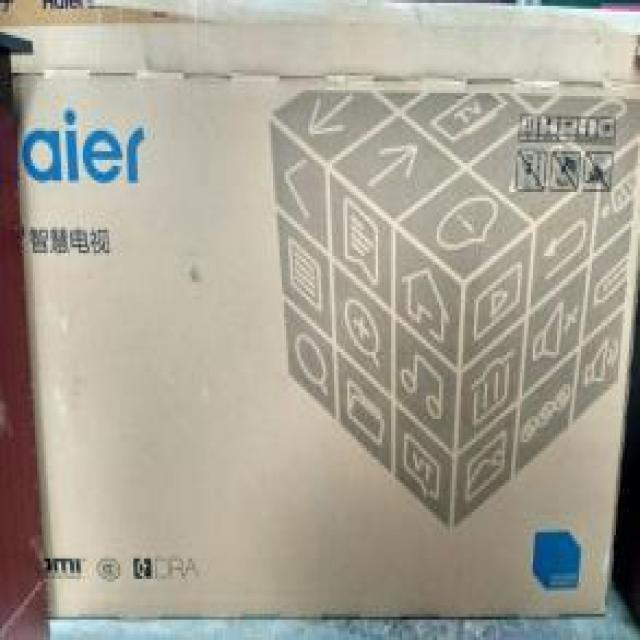cardboard: (8, 14, 640, 618)
